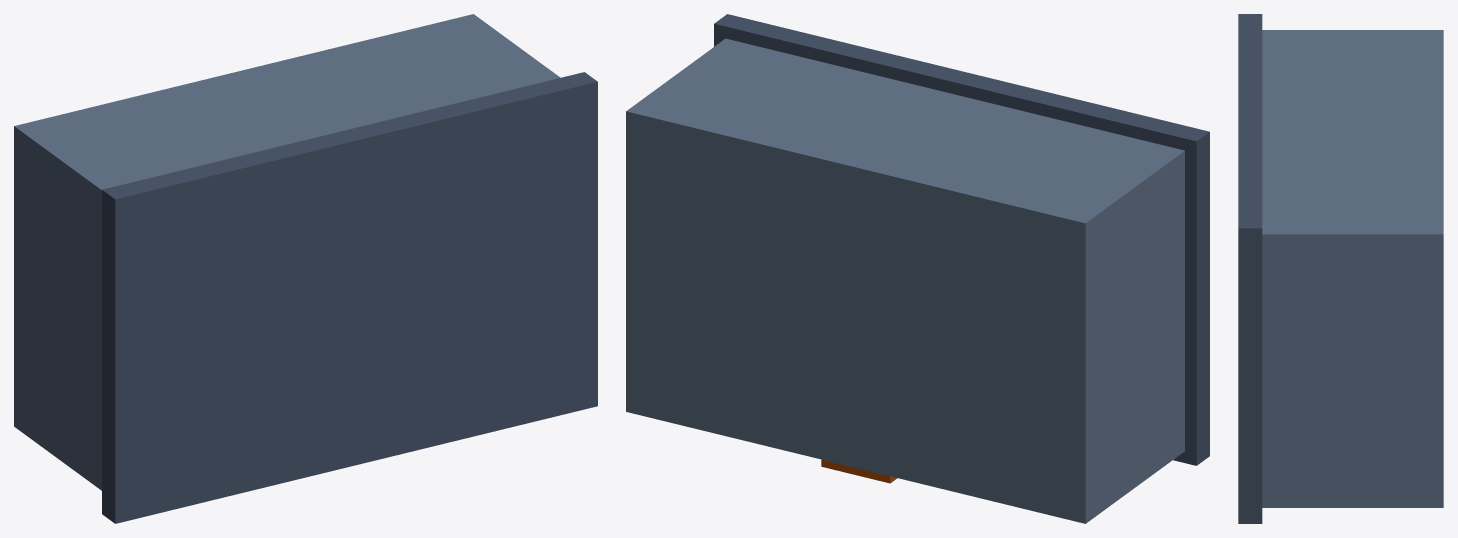
File: building.service-room.glb
The picture shows the model from 3 angles, left to right: view 1: azimuth 30°, elevation 25°; view 2: azimuth 150°, elevation 25°; view 3: azimuth 270°, elevation 25°; orthographic projection. The views are drawn at different scales.
Visible parts, largest first — view 1: building.service-room; view 2: building.service-room; view 3: building.service-room.
Boxes of the visible parts, bbox=[...] form: building.service-room: bbox=[14, 14, 597, 523]; building.service-room: bbox=[626, 14, 1209, 523]; building.service-room: bbox=[1238, 14, 1443, 523].
Bounding box in the file's own units: 8.4 × 5.4 × 3.4.
